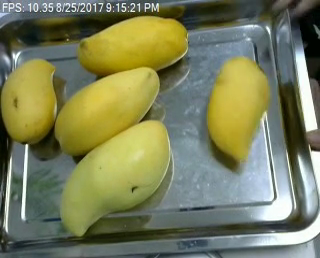Mango: (55, 116, 172, 237), (52, 65, 166, 156), (74, 13, 192, 76), (205, 56, 269, 159), (0, 59, 58, 146)
